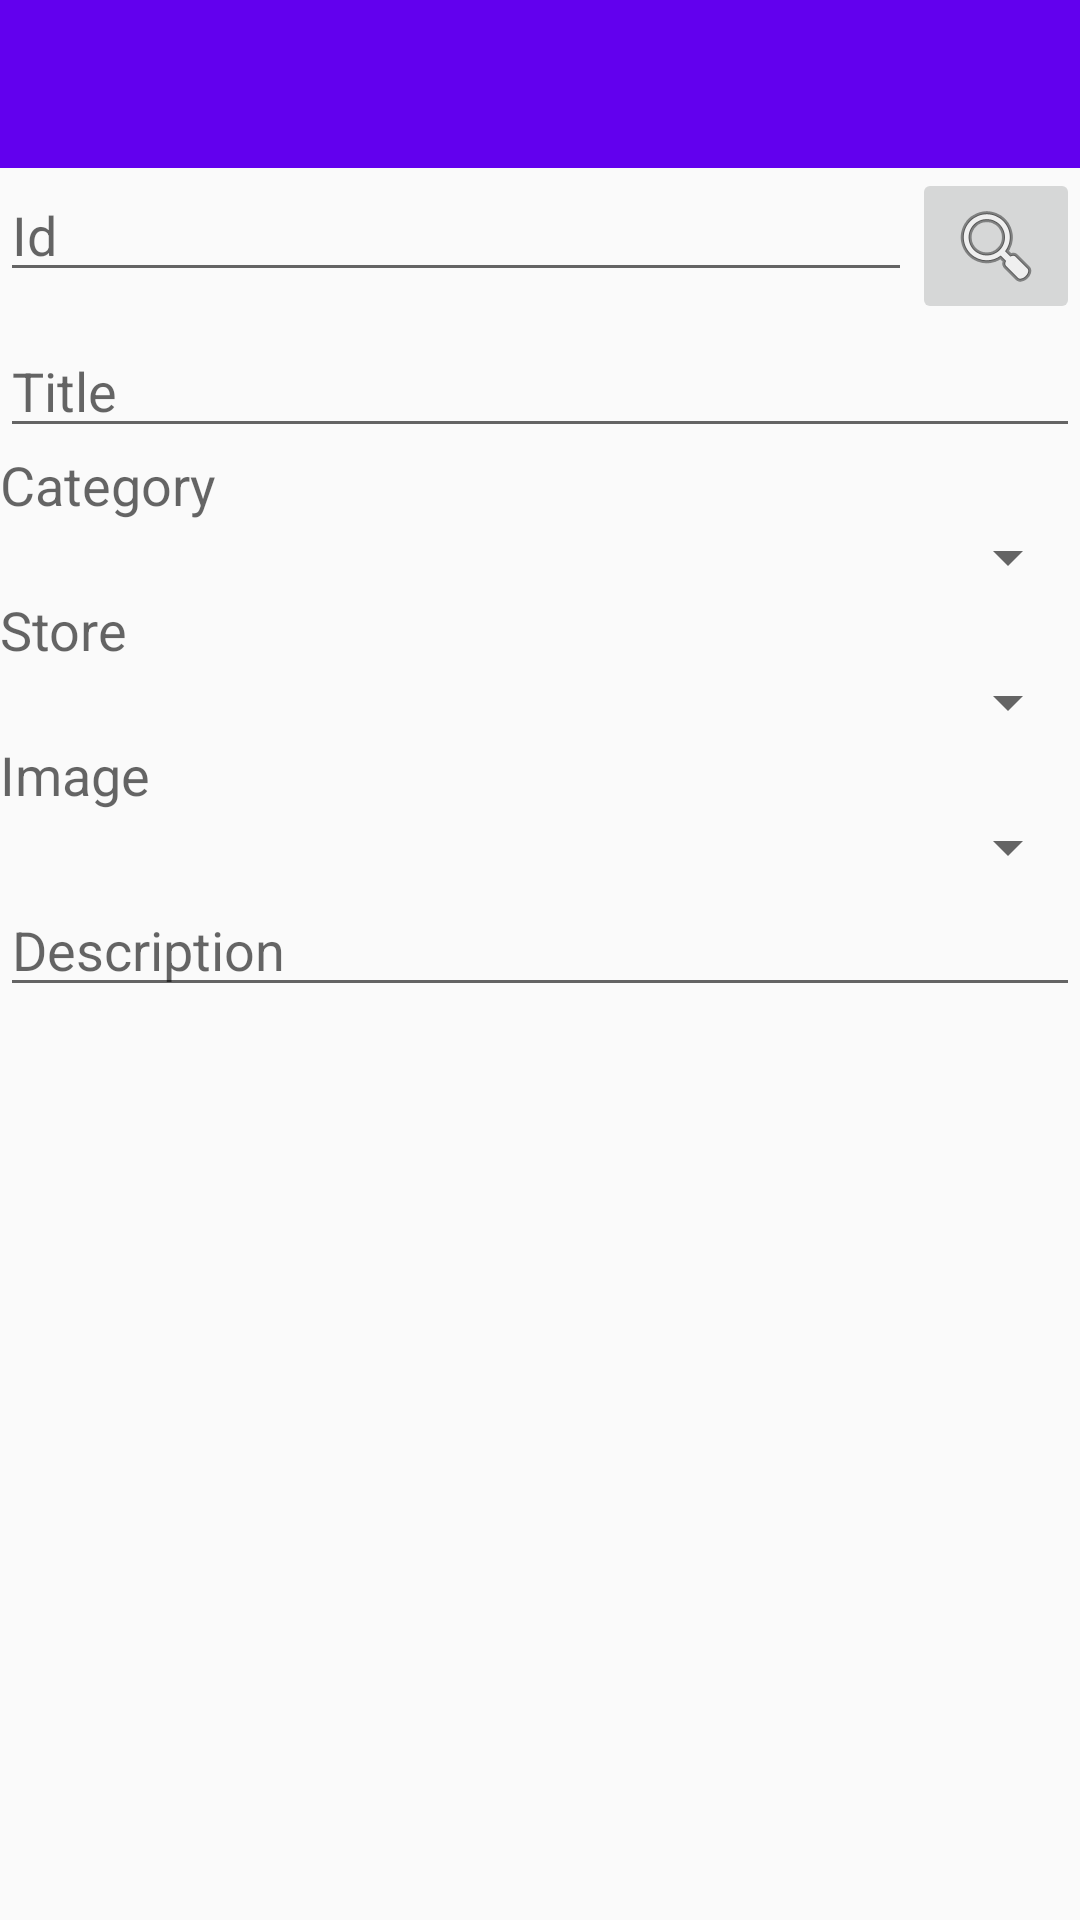

Icon bounding boxes for this 1080x1920 phone screenshot, format (x1, y1, x2, y2):
search: (924, 186, 1068, 306)
